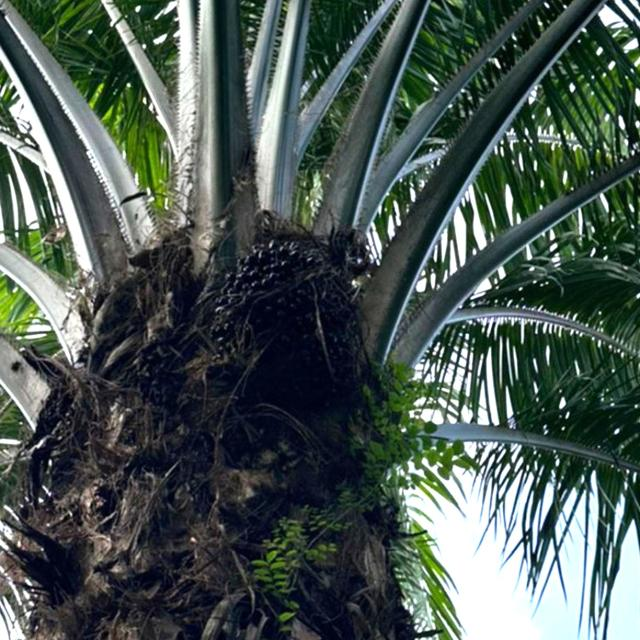almost: (213, 233, 368, 422)
